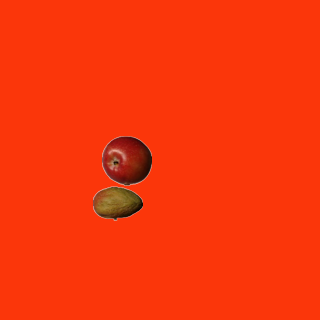Apple Braeburn: (101, 135, 151, 185)
Papaya: (92, 178, 142, 228)
